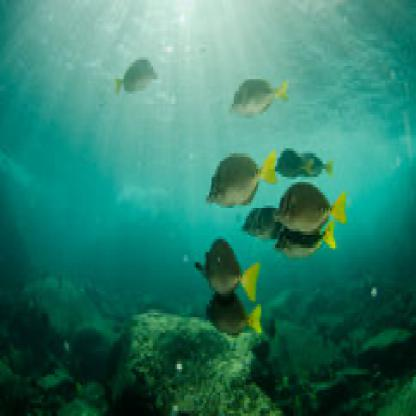surgeon: (206, 141, 287, 217), (269, 173, 350, 240), (195, 235, 273, 303), (113, 48, 168, 95)
